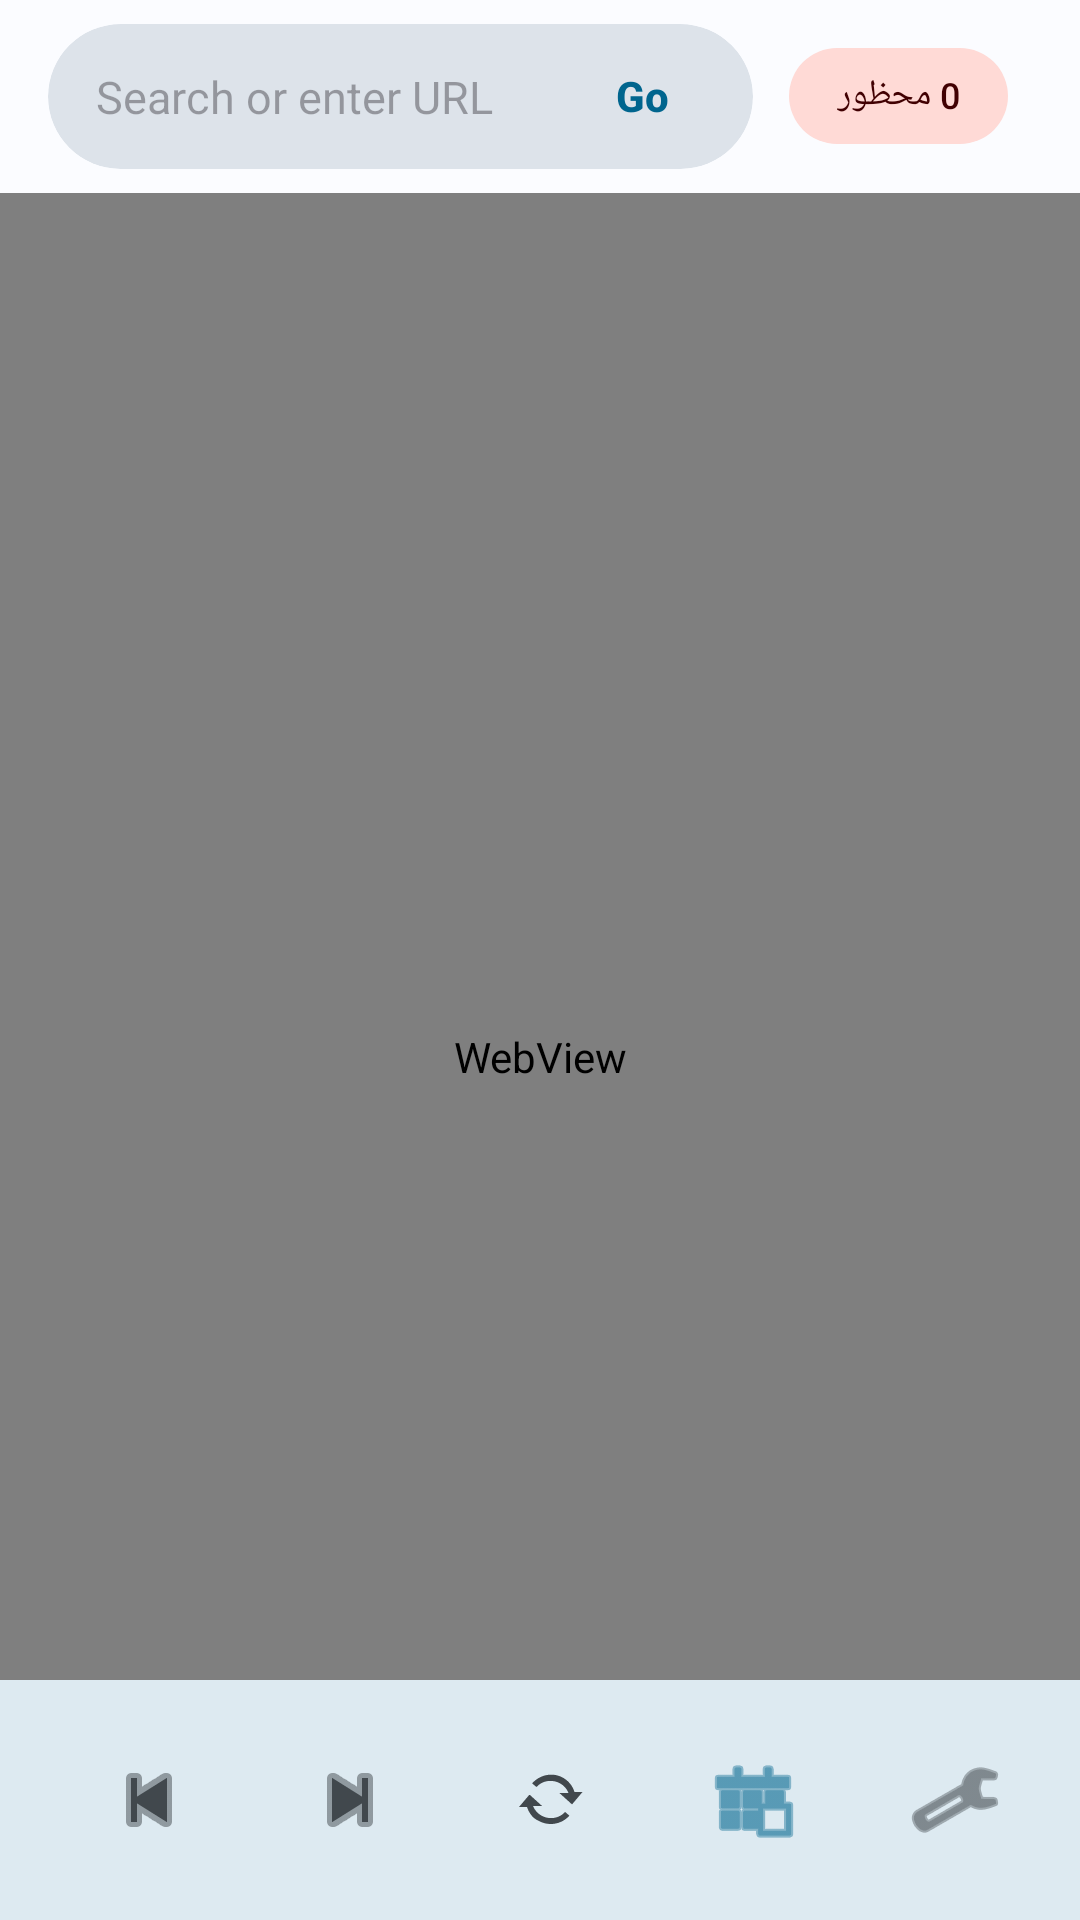

Named icons in this screenshot (1080px x 1920px) and their bounding boxes, Rect(x1, y1, x2, y2):
Back: Rect(126, 1773, 172, 1827)
Forward: Rect(327, 1773, 373, 1827)
Refresh: Rect(519, 1774, 583, 1824)
Settings: Rect(912, 1767, 998, 1833)
